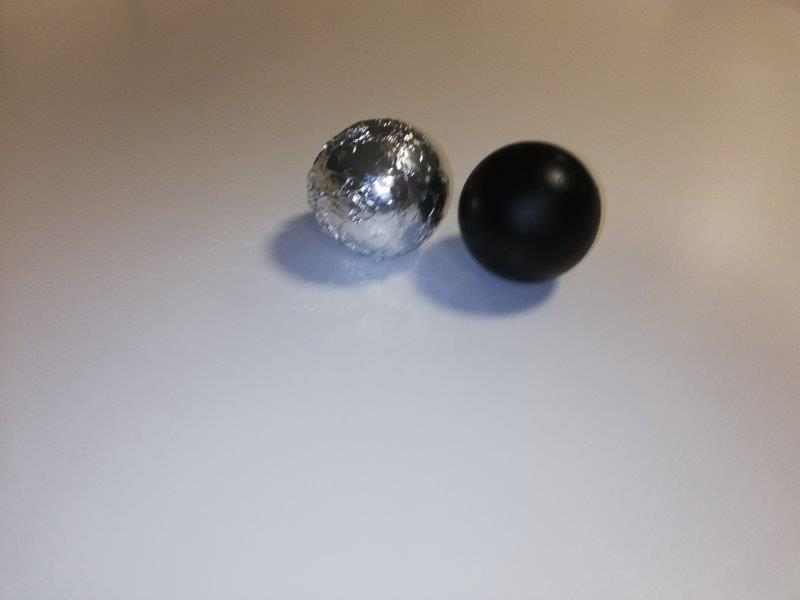bianca: (306, 116, 452, 255)
nera: (460, 138, 601, 285)
